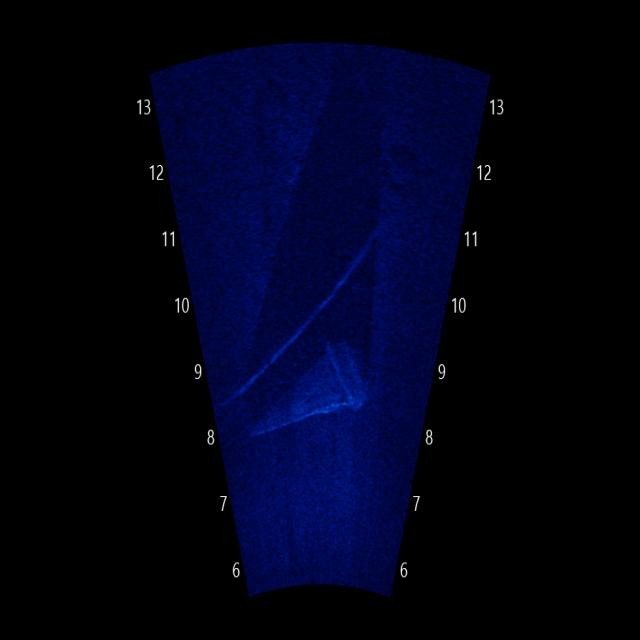circle: (376, 135, 428, 199), (245, 71, 298, 133)
triangle: (236, 326, 374, 442)
